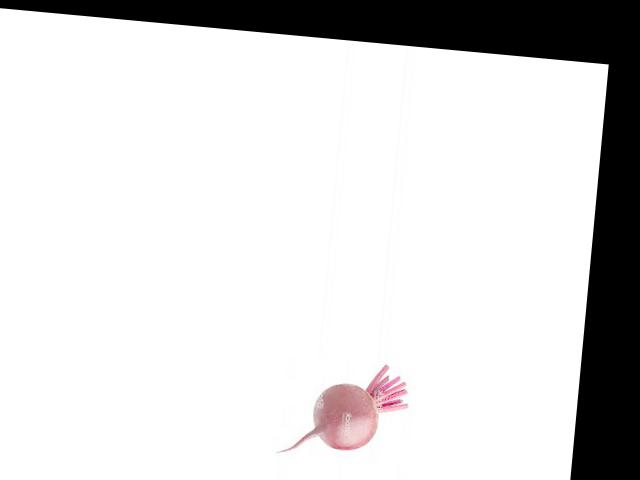beet: (278, 355, 411, 464)
